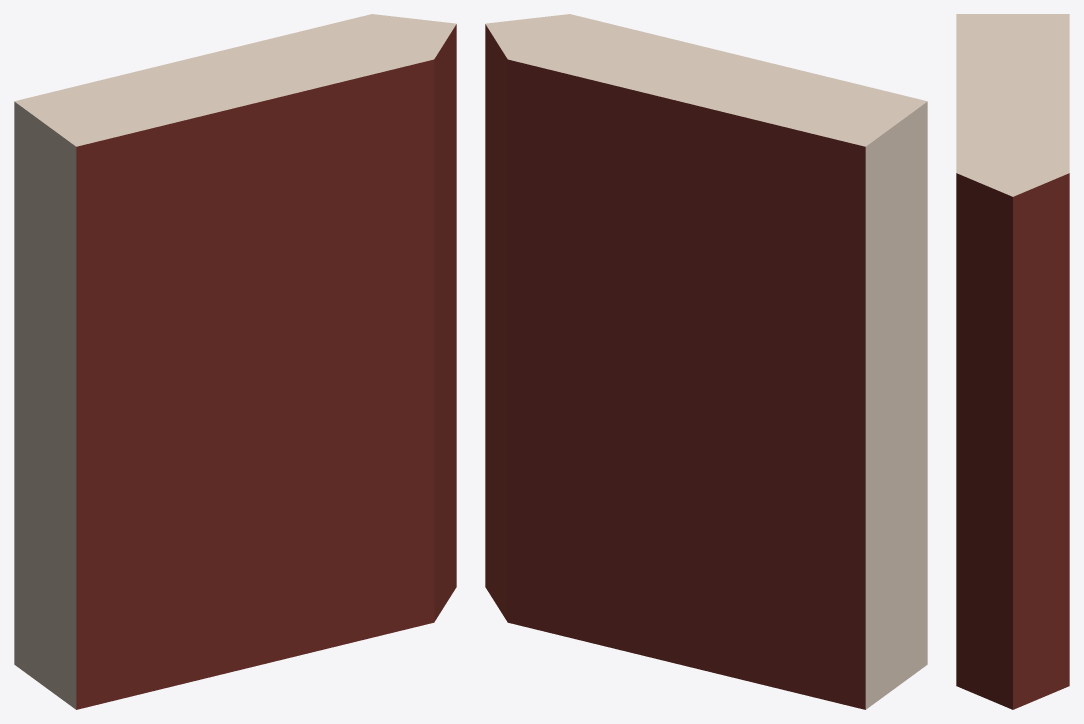
The model's file is Book.fbx.
3 renders of one model, left to right at view 1: azimuth 30°, elevation 25°; view 2: azimuth 150°, elevation 25°; view 3: azimuth 270°, elevation 25°, orthographic. The views are drawn at different scales.
Visible parts, largest first — view 1: Book; view 2: Book; view 3: Book.
Boxes of the visible parts, x1,y1,x2,y2 form: Book: [14, 14, 456, 709]; Book: [485, 14, 927, 709]; Book: [956, 14, 1069, 709].
Size of the model in its own units: 58.32 by 76.26 by 15.25.
